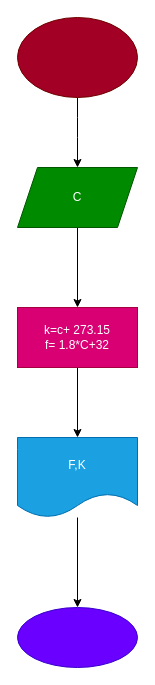
The diagram is 155 pixels wide and 685 high, and some of its shapes have lost their labels. Each missing label, with the centre of its shape:
"FIN" belongs at [77,637].
"INICIO" belongs at [77,57].
